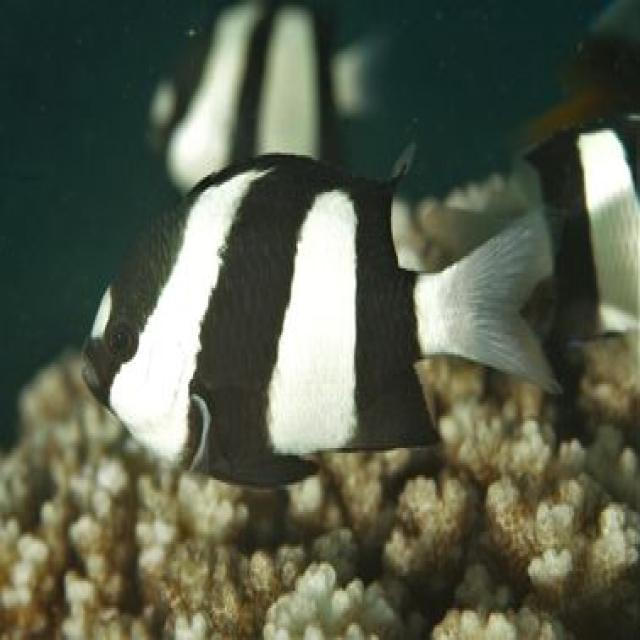ThreeStripedDamselfish: (83, 145, 562, 492)
